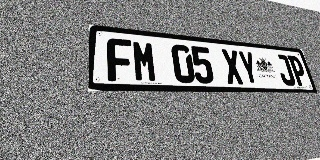0: (170, 44, 196, 83)
5: (190, 46, 215, 84)
F: (107, 38, 133, 82)
J: (274, 54, 296, 86)
M: (132, 40, 158, 82)
P: (287, 55, 309, 86)
X: (220, 49, 244, 84)
Y: (237, 50, 260, 85)
